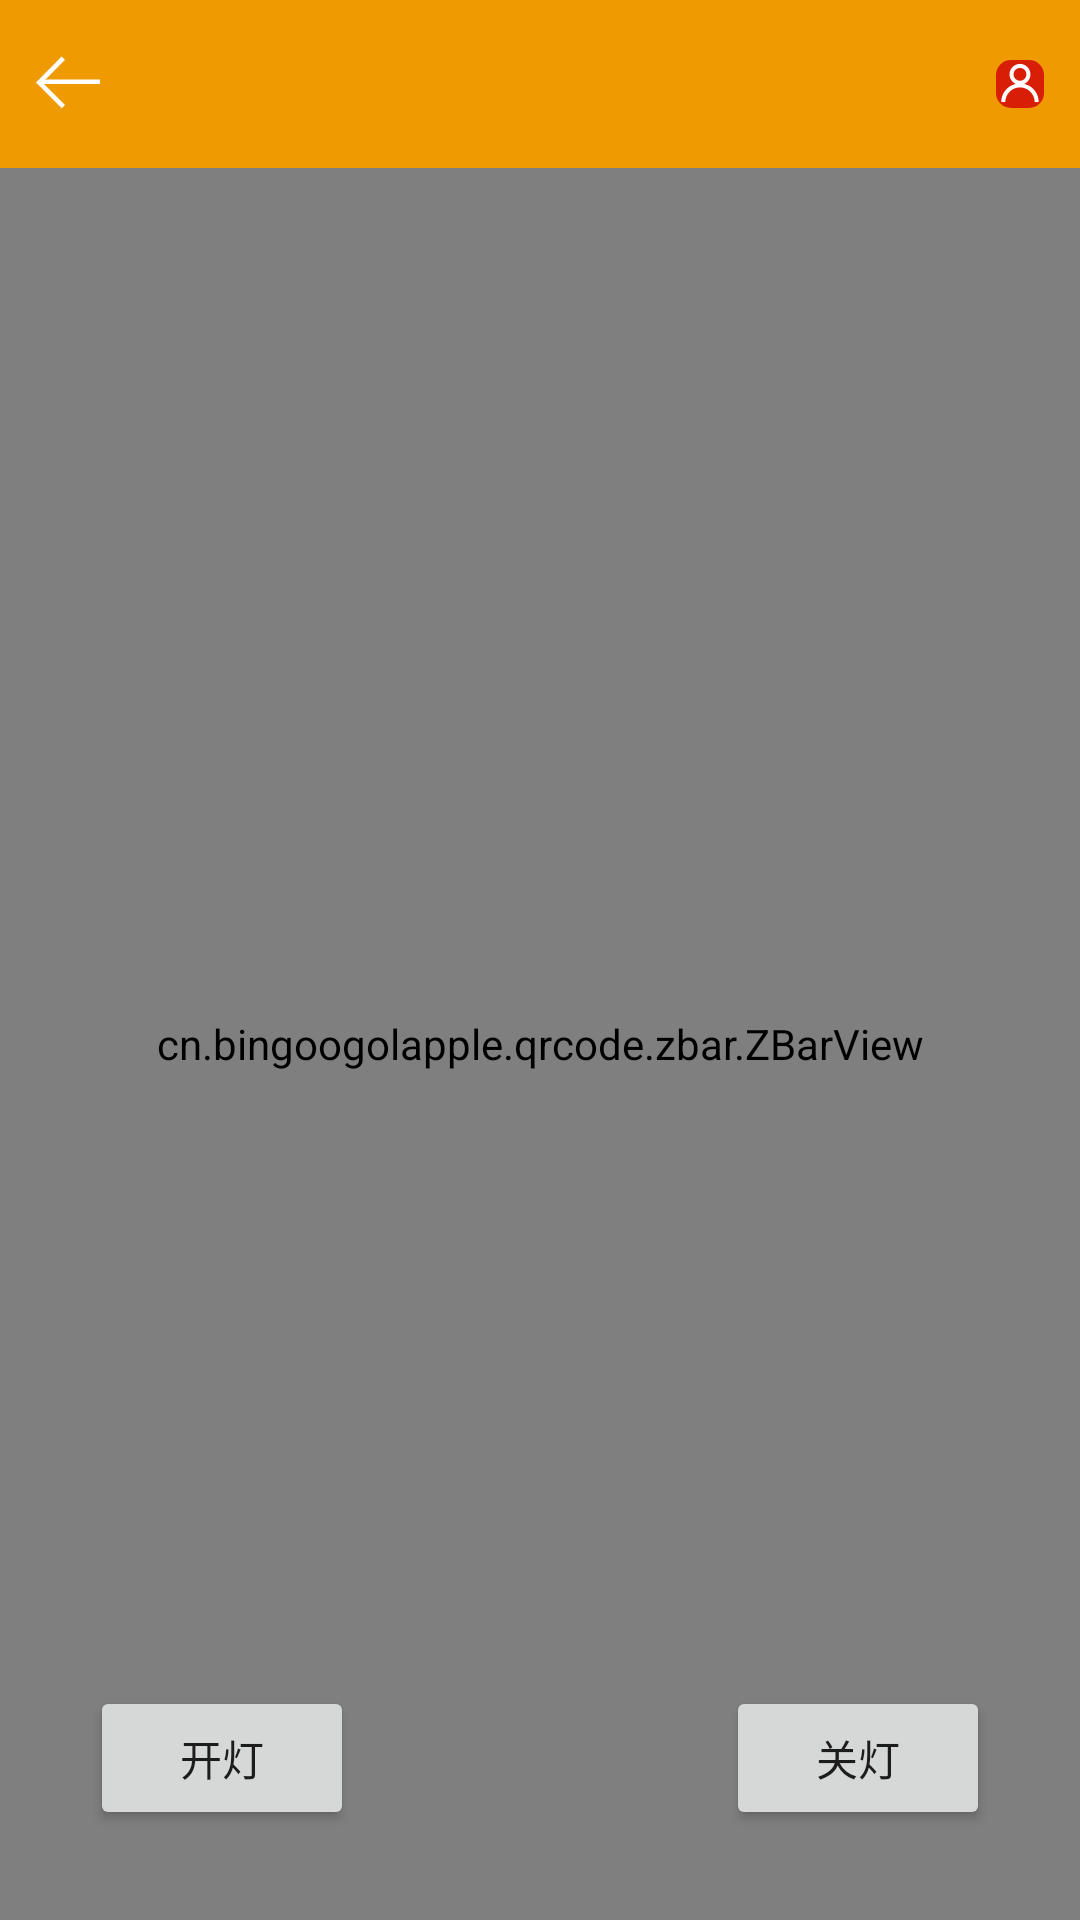

Icon bounding boxes for this 1080 x 1920 phone screenshot, format (x1, y1, x2, y2):
fanhui: (36, 56, 100, 109)
user: (996, 60, 1044, 108)
